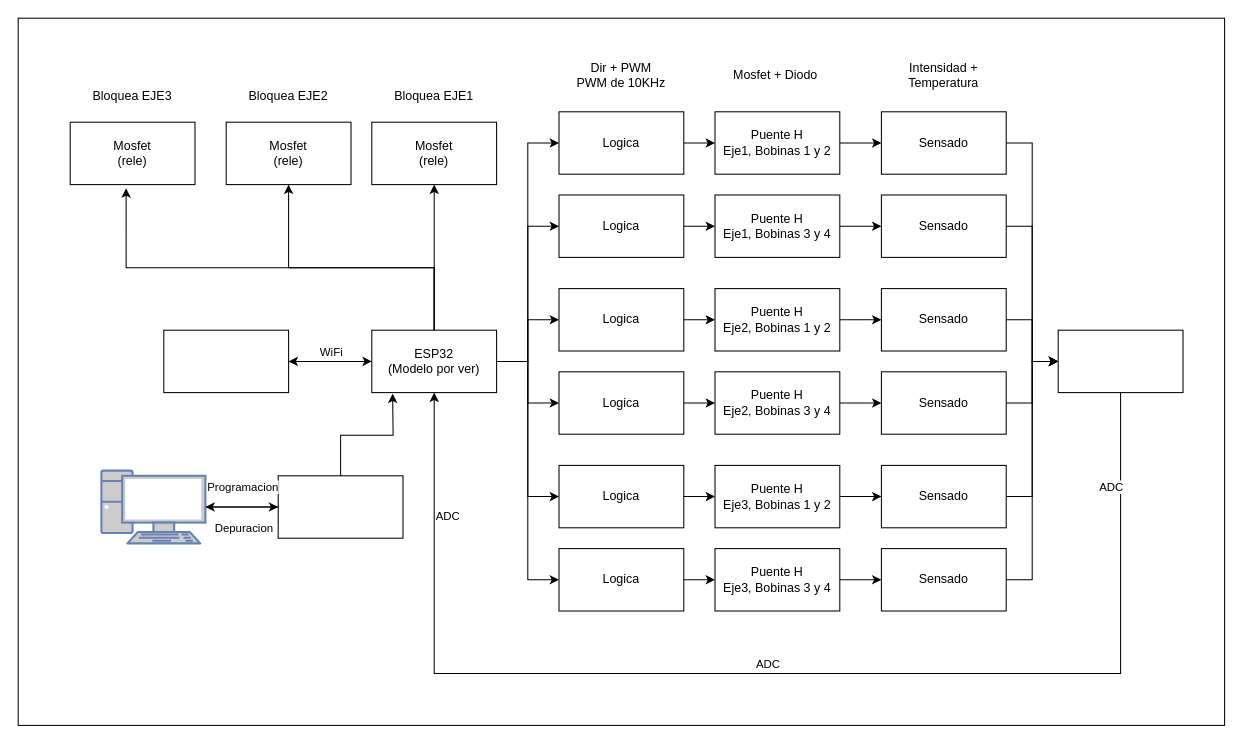
Image size: 1243x744. Some labels were removed from this diagram. The centre of each missing label's shape, as x and y in pixels:
"Multiplexor analógico" goes at (1120,361).
"Raspberry PI" goes at (226,361).
"UART0 programación" goes at (340,506).
